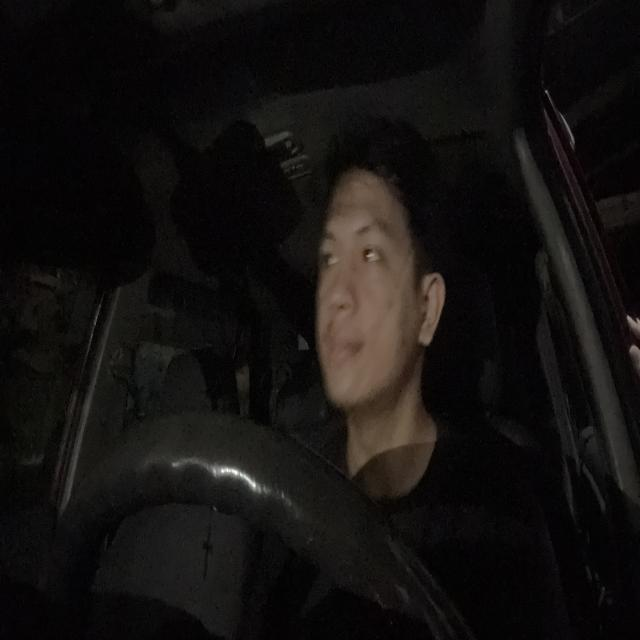open: (355, 216, 395, 277), (319, 227, 340, 283)
